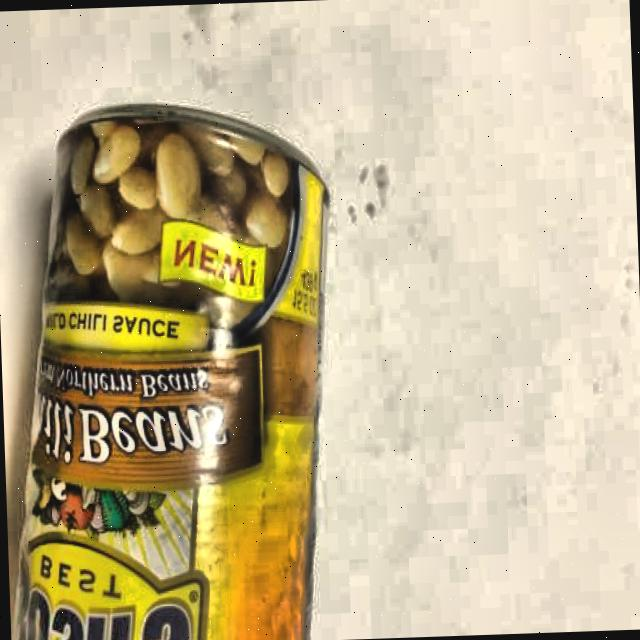metal: (0, 85, 347, 640)
